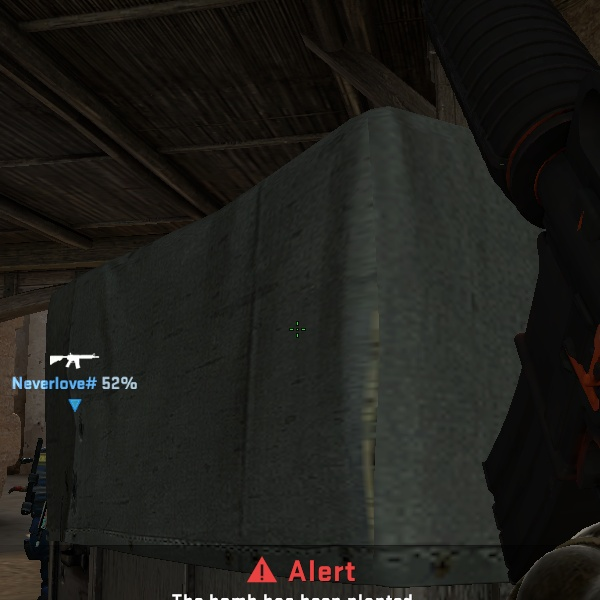ct_body: (9, 427, 56, 592)
